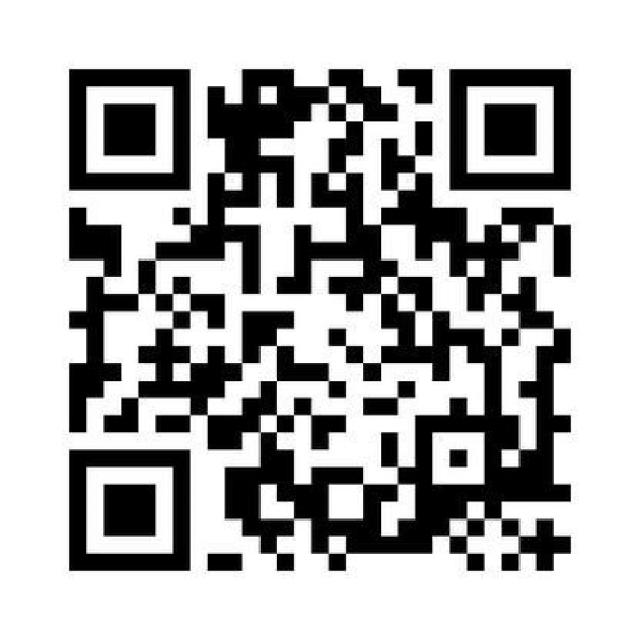QRCode: (53, 64, 593, 572)
